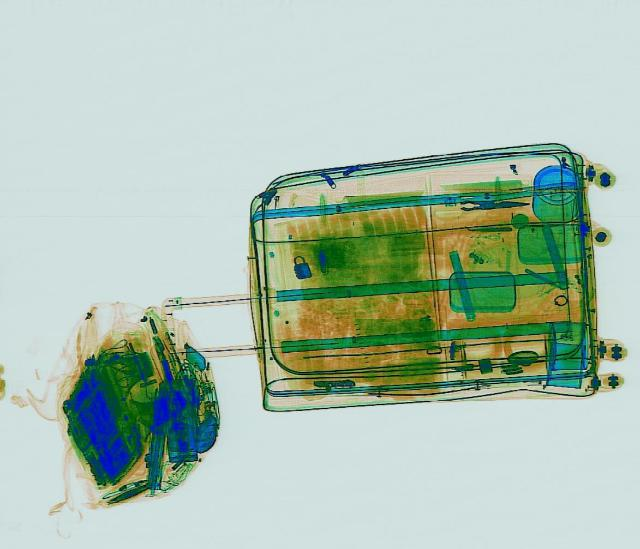Knife: (459, 197, 529, 210)
